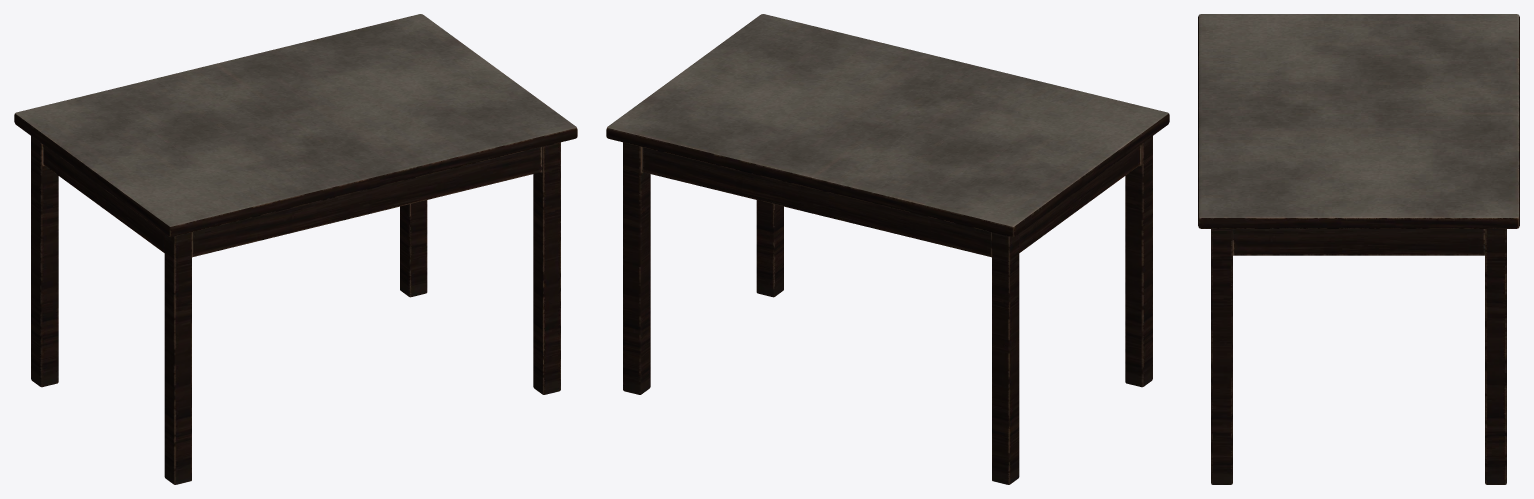
Rendered from kitchen_table.glb.
3 renders of one model, left to right at view 1: azimuth 30°, elevation 25°; view 2: azimuth 150°, elevation 25°; view 3: azimuth 270°, elevation 25°, orthographic. The views are drawn at different scales.
Parts seen in each view (by area): view 1: kitchen_table; view 2: kitchen_table; view 3: kitchen_table.
Boxes of the visible parts, x1,y1,x2,y2 form: kitchen_table: (14, 14, 577, 484); kitchen_table: (606, 14, 1169, 484); kitchen_table: (1198, 14, 1519, 484).
Size of the model in its own units: 1.22 by 0.7601 by 0.81.
Materials: 1 (1 with a texture image).
